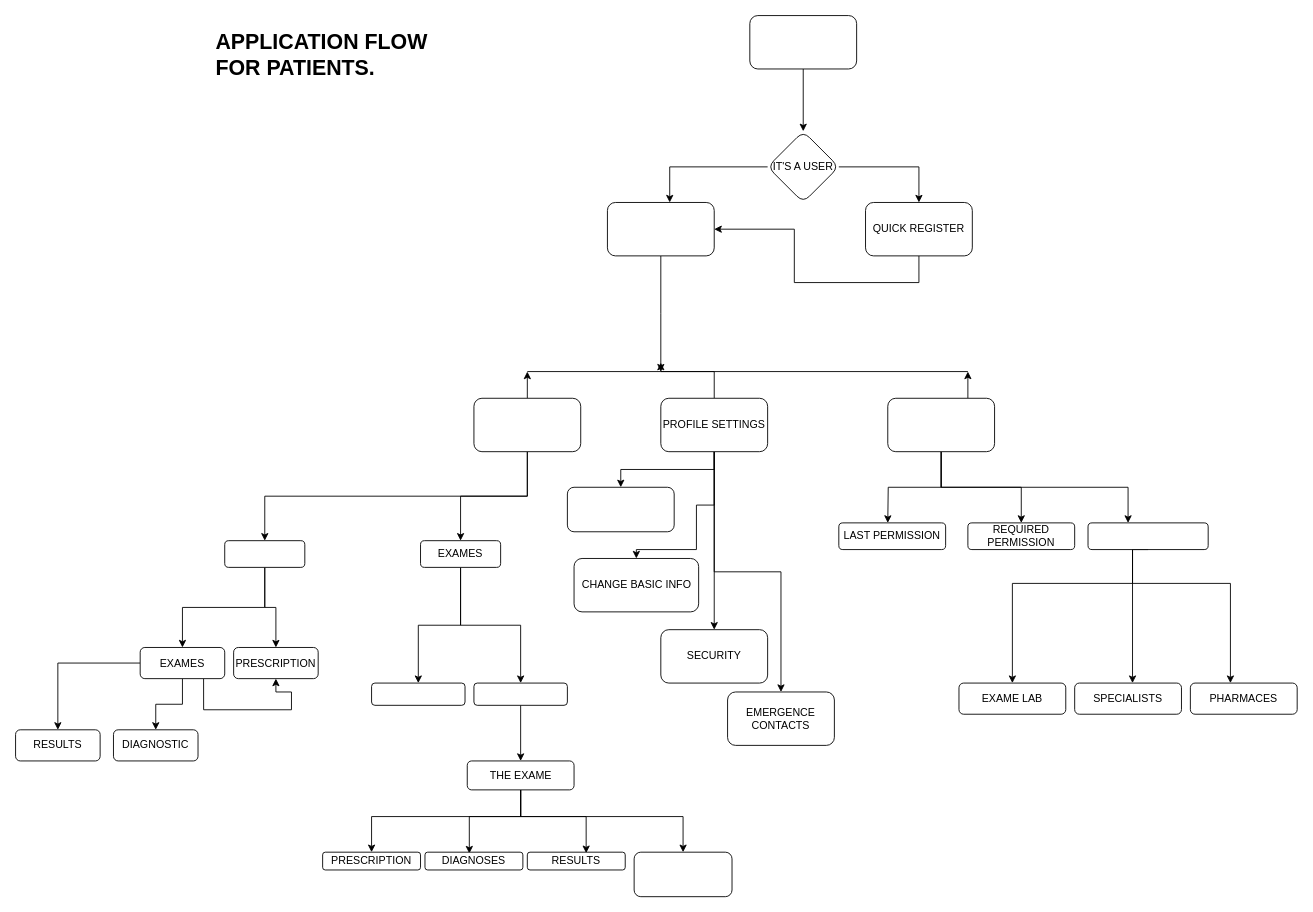
Image size: 1313x912. Some labels were removed from this diagram. Each missing label, with the centre of its shape:
APPLICATION REQUEST: point (803, 42)
EXAMES TO DO: point (418, 693)
LAST DATA: point (264, 553)
LOGIN: point (660, 229)
PAST EXAMES: point (520, 693)
PERMISSIONS: point (941, 424)
PERSONAL PROFISSIONAL FEADBACK: point (682, 874)
RESET PROFILE: point (620, 509)
VIEW HEALTH HISTORY: point (527, 424)
VIEW PERMISSIONS: point (1147, 536)
